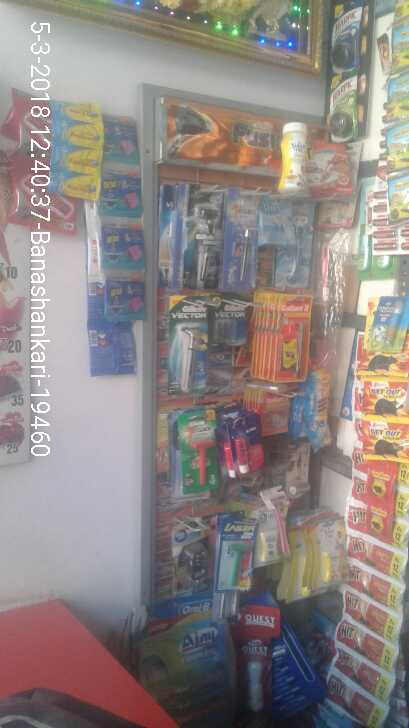gillette: (220, 192, 261, 295), (170, 424, 218, 509), (209, 303, 250, 391), (182, 188, 216, 287), (172, 298, 205, 394)
